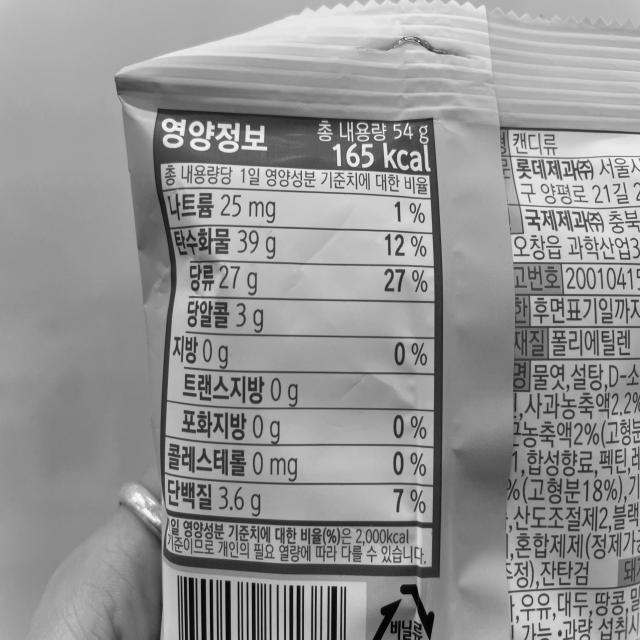Nutrition Label: (151, 97, 452, 584)
